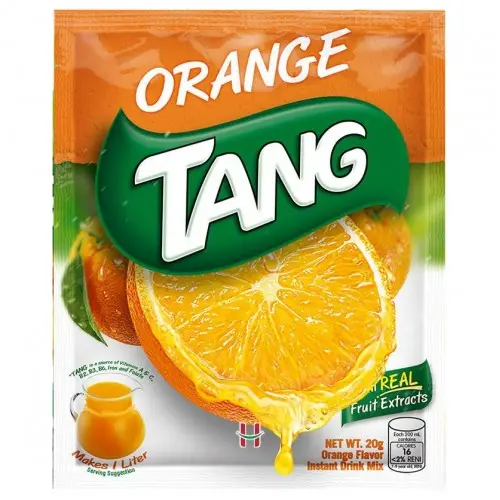non-toxic_waste: (51, 8, 458, 485)
